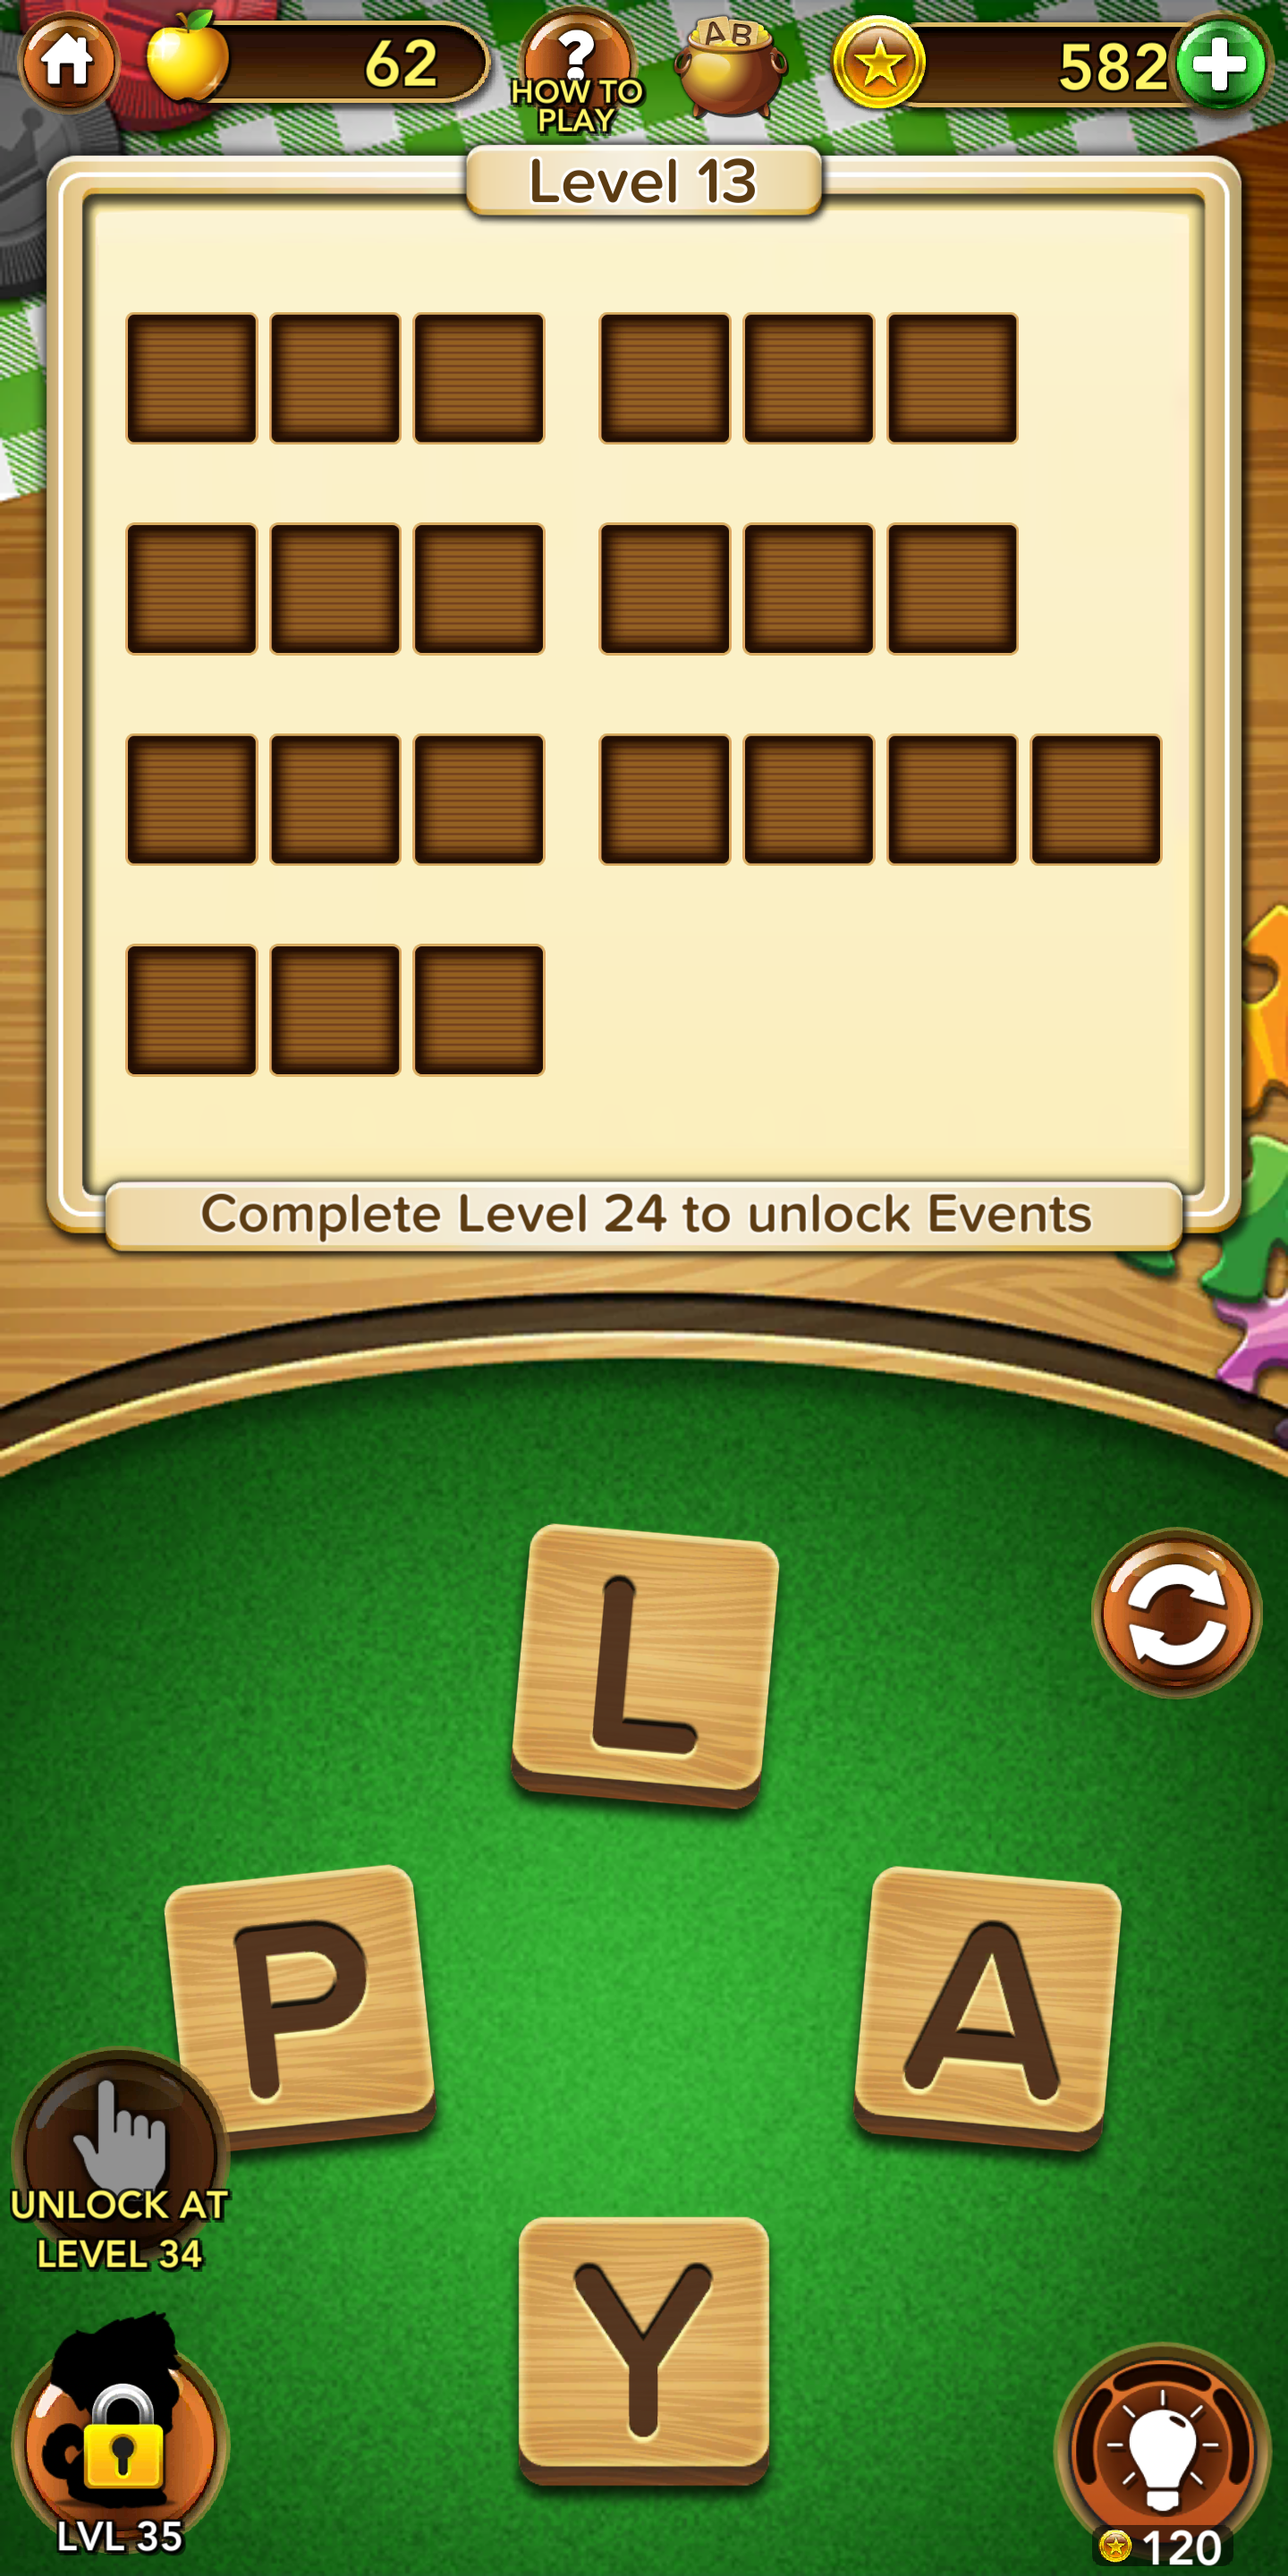tile: (511, 1525, 779, 1809), (856, 1866, 1120, 2152), (517, 2216, 770, 2489), (227, 1863, 435, 2150)
